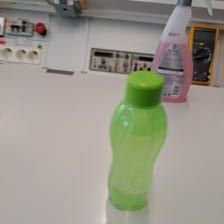bottle: (103, 68, 168, 214)
